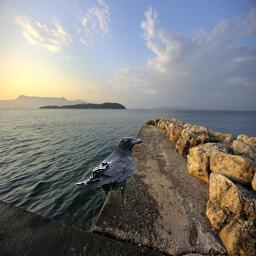Crow: (74, 137, 143, 204)
